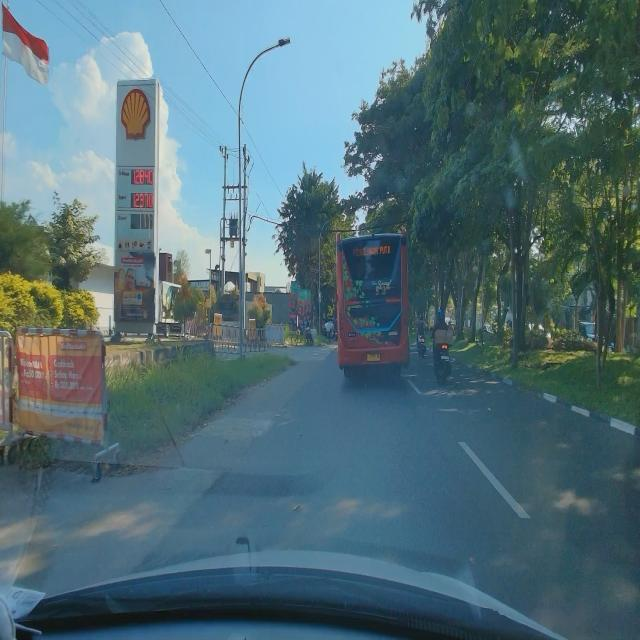bus: (334, 226, 412, 381)
license-plate: (366, 353, 381, 362)
